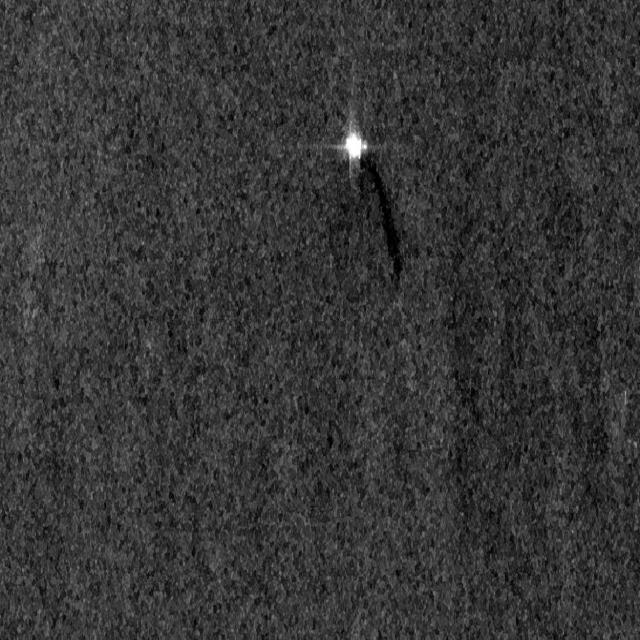oil-spill: (361, 158, 408, 284)
ship: (341, 122, 366, 164)
